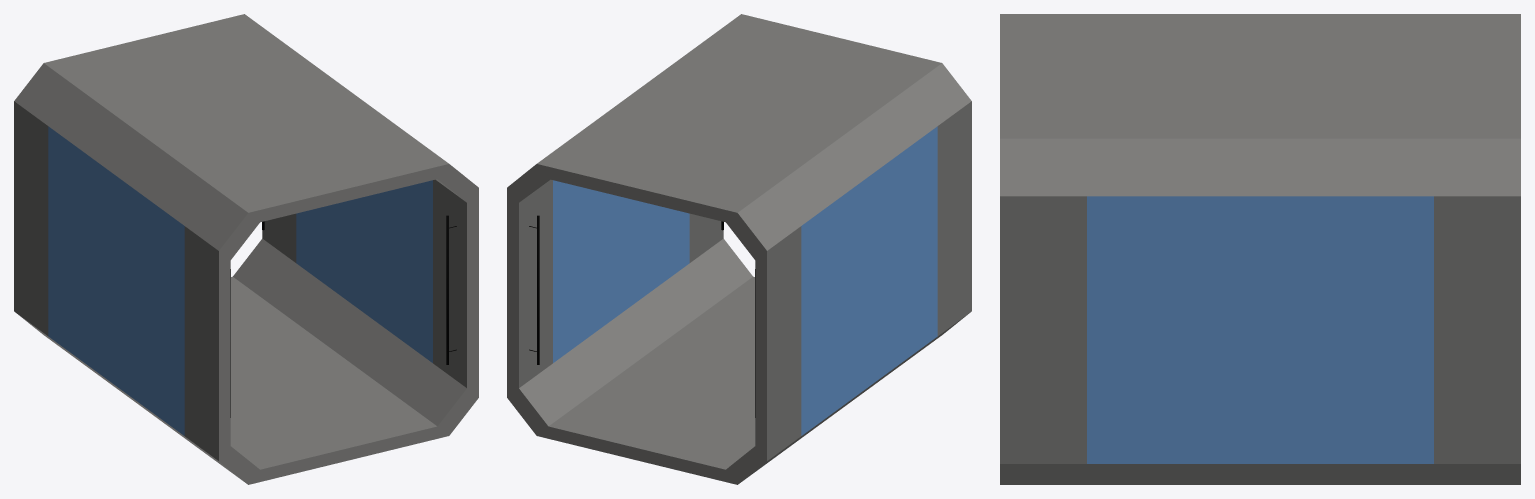
Rendered from tube_straight.fbx.
The picture shows the model from 3 angles, left to right: view 1: azimuth 30°, elevation 25°; view 2: azimuth 150°, elevation 25°; view 3: azimuth 270°, elevation 25°; orthographic projection. The views are drawn at different scales.
Parts seen in each view (by area): view 1: TubeStraight, Straight Handle South; view 2: TubeStraight, Straight Handle North; view 3: TubeStraight.
Part boxes in pixels (x1=…): TubeStraight: x1=14, y1=14, x2=478, y2=484; Straight Handle South: x1=230, y1=215, x2=456, y2=417; TubeStraight: x1=507, y1=14, x2=971, y2=484; Straight Handle North: x1=529, y1=215, x2=755, y2=417; TubeStraight: x1=1000, y1=14, x2=1520, y2=484.
Size of the model in its own units: 440 by 440 by 600.
